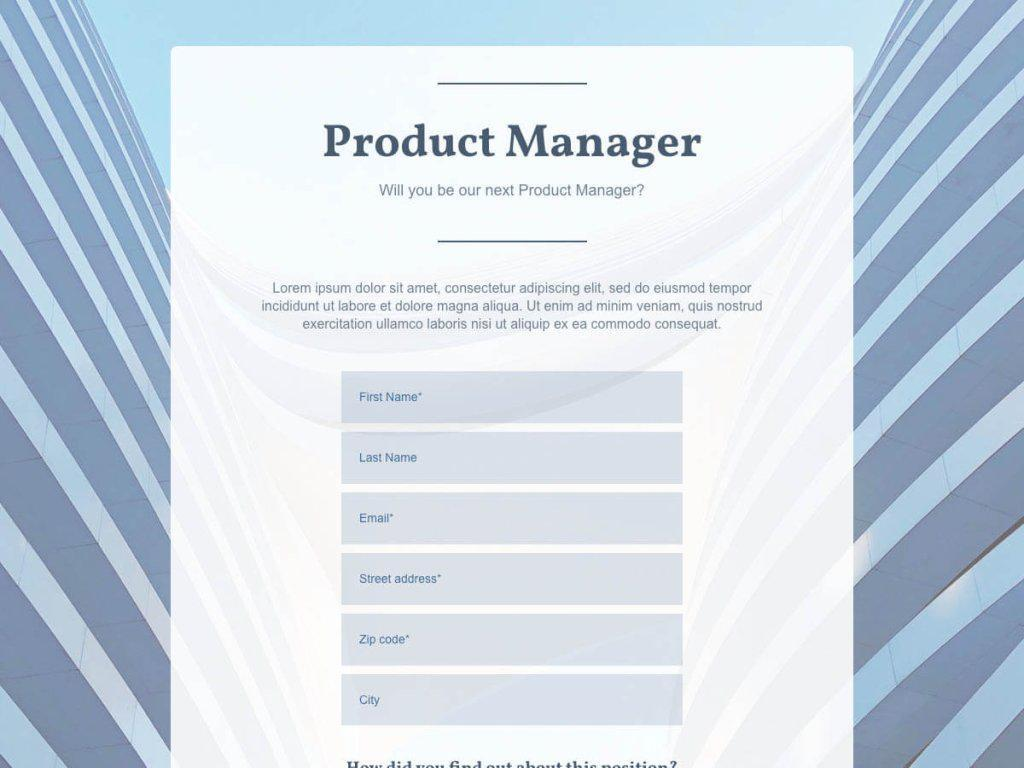input: (341, 431, 685, 484), (342, 372, 684, 425), (342, 493, 684, 543), (343, 614, 683, 664), (344, 676, 681, 726), (343, 554, 684, 602)
label: (322, 121, 704, 164)
